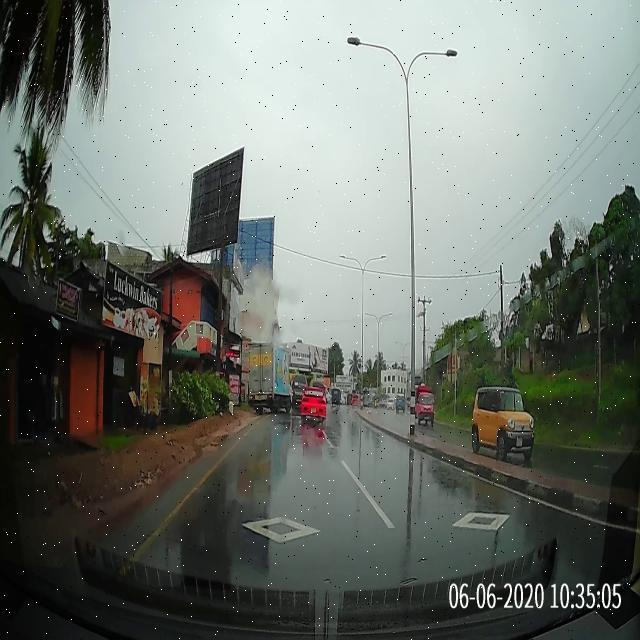diamond: (134, 482, 414, 551)
